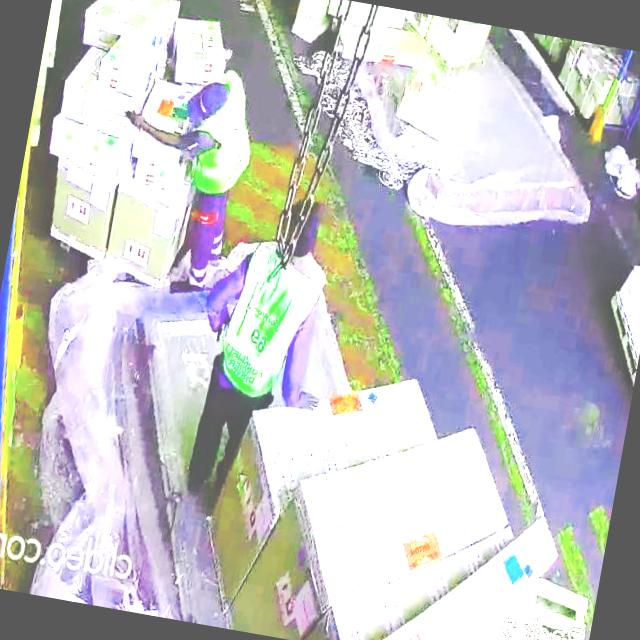Box: (305, 422, 500, 620), (246, 358, 436, 524), (113, 180, 193, 278), (43, 170, 120, 250), (170, 12, 235, 88), (83, 0, 178, 46), (398, 68, 452, 138), (42, 126, 124, 172), (62, 88, 138, 134), (102, 37, 164, 93)
